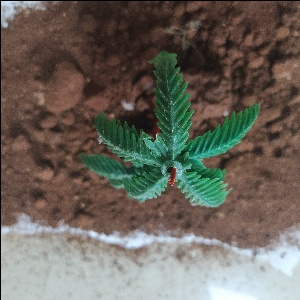plant: (65, 50, 260, 222)
